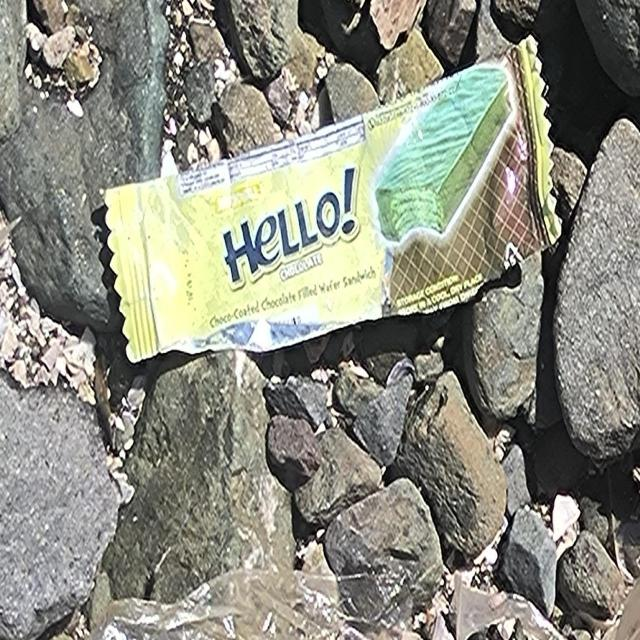plastic_waste: (100, 31, 564, 366)
